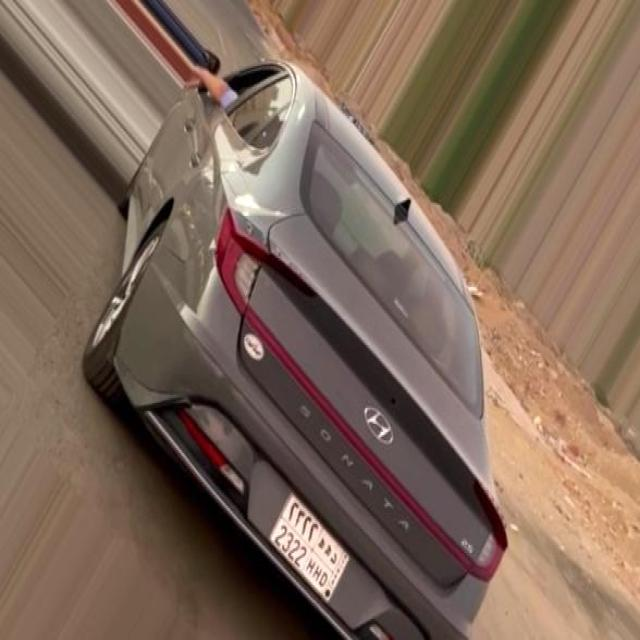Car-plate: (263, 482, 355, 619)
